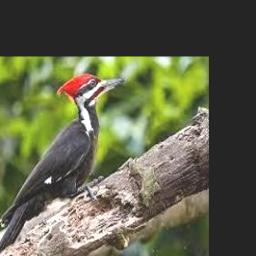Woodpecker: (0, 72, 126, 256)
